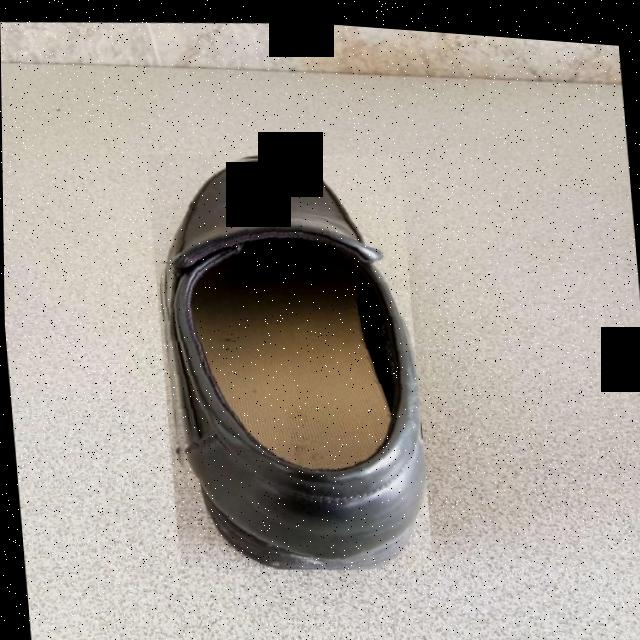shoe: (145, 133, 432, 581)
